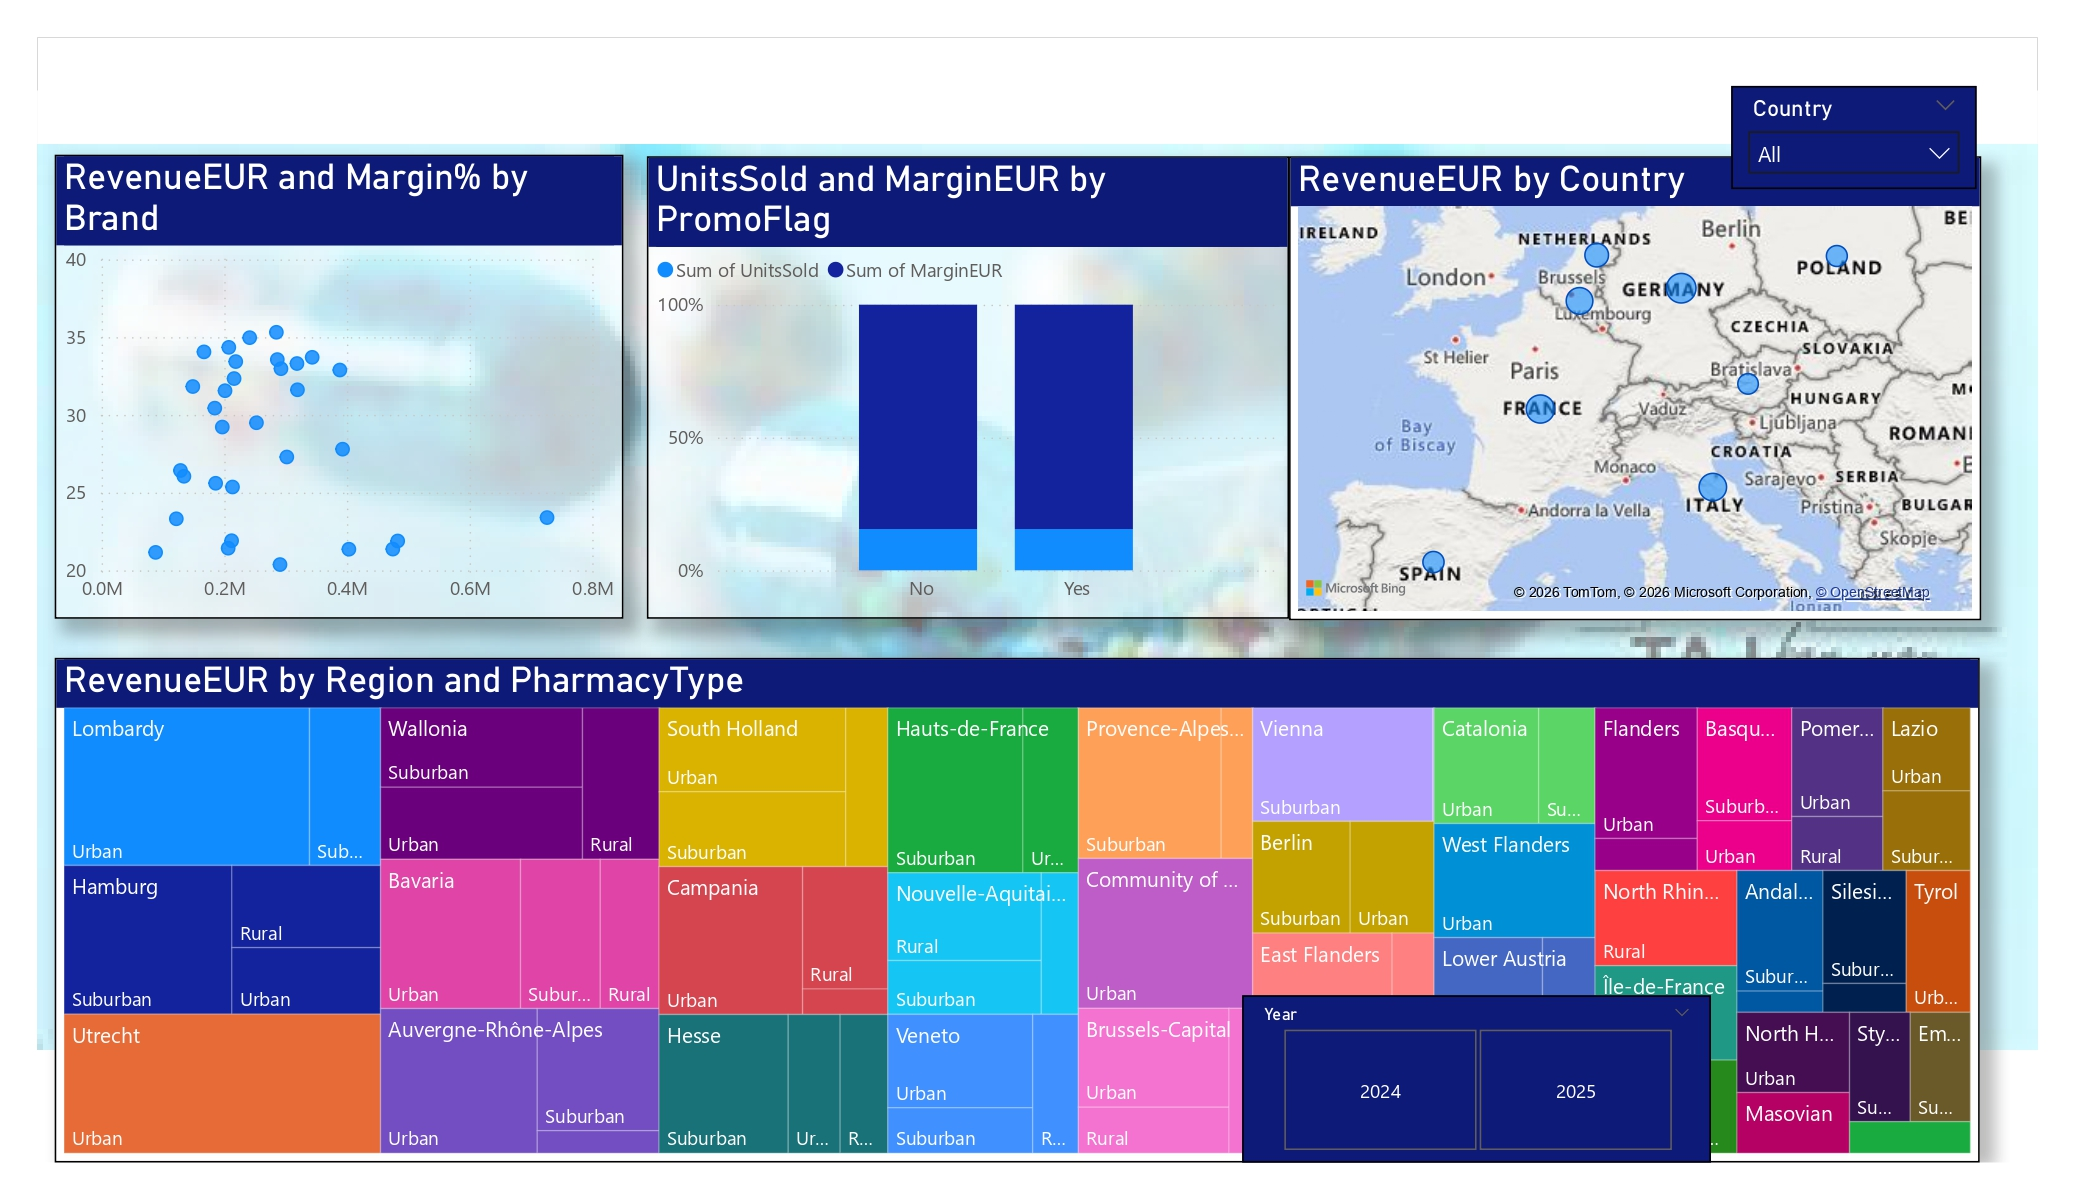

What the dashboard file says about the page in this screenshot:
{"tool":"powerbi","page":{"name":"Geographic Contribution","canvas":[1280,720],"ordinal":1},"visuals":[{"type":"scatterChart","fields":{"X":["Sum(FactSales.RevenueEUR)"],"Y":["Data Dictionary.Margin%"],"Category":["DimProduct.Brand"]},"box":[10.7,75.1,364.7,296.8],"z":0},{"type":"hundredPercentStackedColumnChart","title":"UnitsSold and MarginEUR by PromoFlag","fields":{"Category":["T_FactSales.PromoFlag"],"Y":["Sum(FactSales.UnitsSold)","Sum(FactSales.MarginEUR)"]},"box":[389.8,75.5,410.9,296.7],"z":1000},{"type":"treemap","title":" RevenueEUR by Region and PharmacyType","fields":{"Group":["T_DimPharmacy.Region"],"Details":["T_DimPharmacy.PharmacyType"],"Values":["Sum(T_FactSales.RevenueEUR)"]},"box":[10.5,396.8,1232.6,323.1],"z":2000},{"type":"map","title":"RevenueEUR by Country","fields":{"Category":["T_DimPharmacy.Country"],"Size":["Sum(FactSales.RevenueEUR)"]},"box":[801,76,443,297],"z":3000},{"type":"slicer","fields":{"Values":["DimDate.Year"]},"box":[770.5,613.2,300.3,107.3],"z":4000},{"type":"slicer","fields":{"Values":["T_DimPharmacy.Country"]},"box":[1084.5,31.4,156.8,65.7],"z":4001}]}

Visuals, with their boxes in screenshot pixels (x1, y1, x2, y2):
scatterChart - Sum(FactSales.RevenueEUR) x Data Dictionary.Margin%: [left=65, top=154, right=628, bottom=611]
"UnitsSold and MarginEUR by PromoFlag" hundredPercentStackedColumnChart: [left=650, top=154, right=1283, bottom=612]
" RevenueEUR by Region and PharmacyType" treemap: [left=65, top=650, right=1966, bottom=1148]
"RevenueEUR by Country" map: [left=1284, top=155, right=1967, bottom=613]
slicer - DimDate.Year: [left=1237, top=983, right=1700, bottom=1149]
slicer - T_DimPharmacy.Country: [left=1721, top=86, right=1963, bottom=188]
